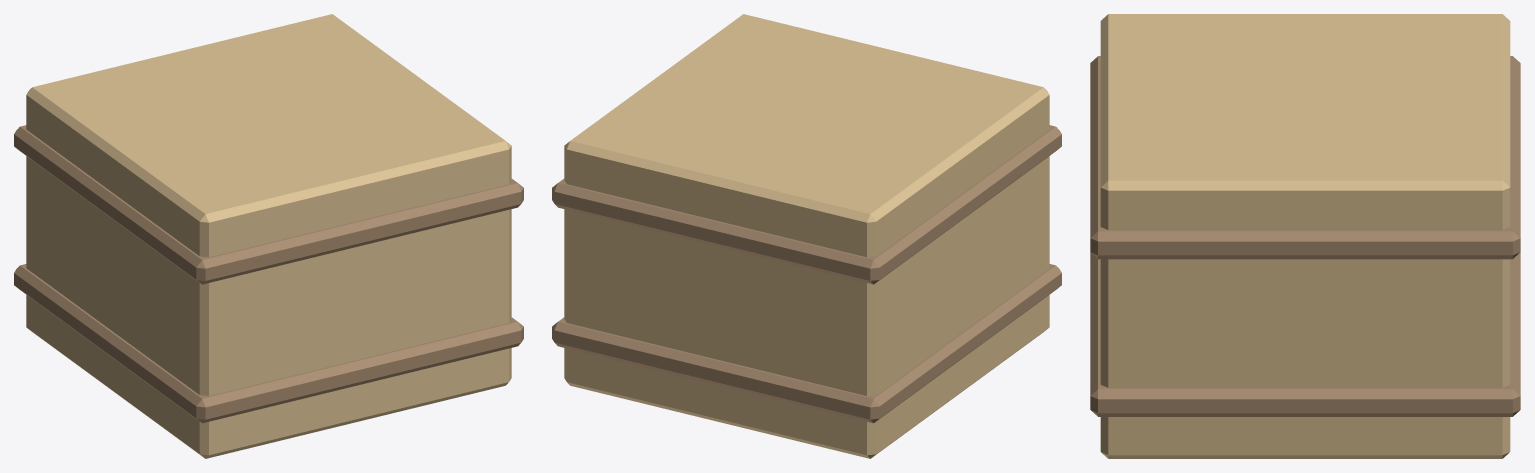
The picture shows the model from 3 angles, left to right: view 1: azimuth 30°, elevation 25°; view 2: azimuth 150°, elevation 25°; view 3: azimuth 270°, elevation 25°; orthographic projection. The views are drawn at different scales.
Parts seen in each view (by area): view 1: 箱体.001, 包边; view 2: 箱体.001, 包边; view 3: 箱体.001, 包边.
Boxes of the visible parts, x1,y1,x2,y2 form: 箱体.001: (26, 14, 511, 458); 包边: (14, 125, 523, 423); 箱体.001: (564, 14, 1049, 458); 包边: (552, 125, 1061, 423); 箱体.001: (1100, 14, 1510, 458); 包边: (1090, 56, 1520, 416).
Size of the model in its own units: 84 by 60 by 84.
